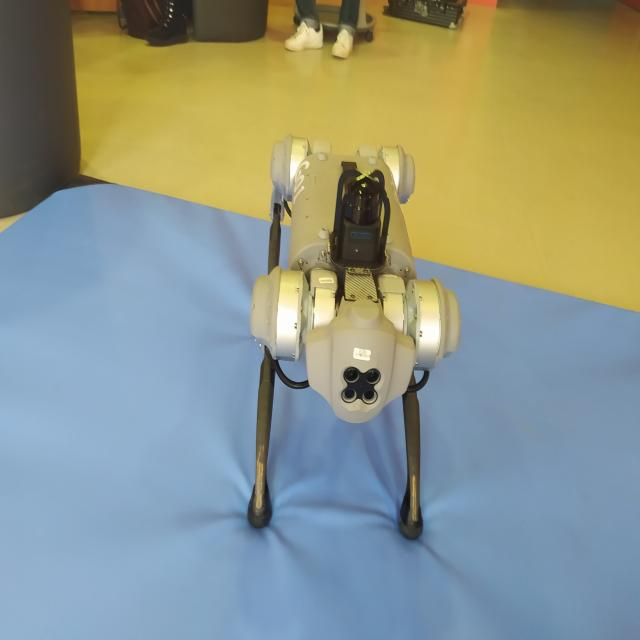unitree-go1-robot: (244, 121, 468, 563)
